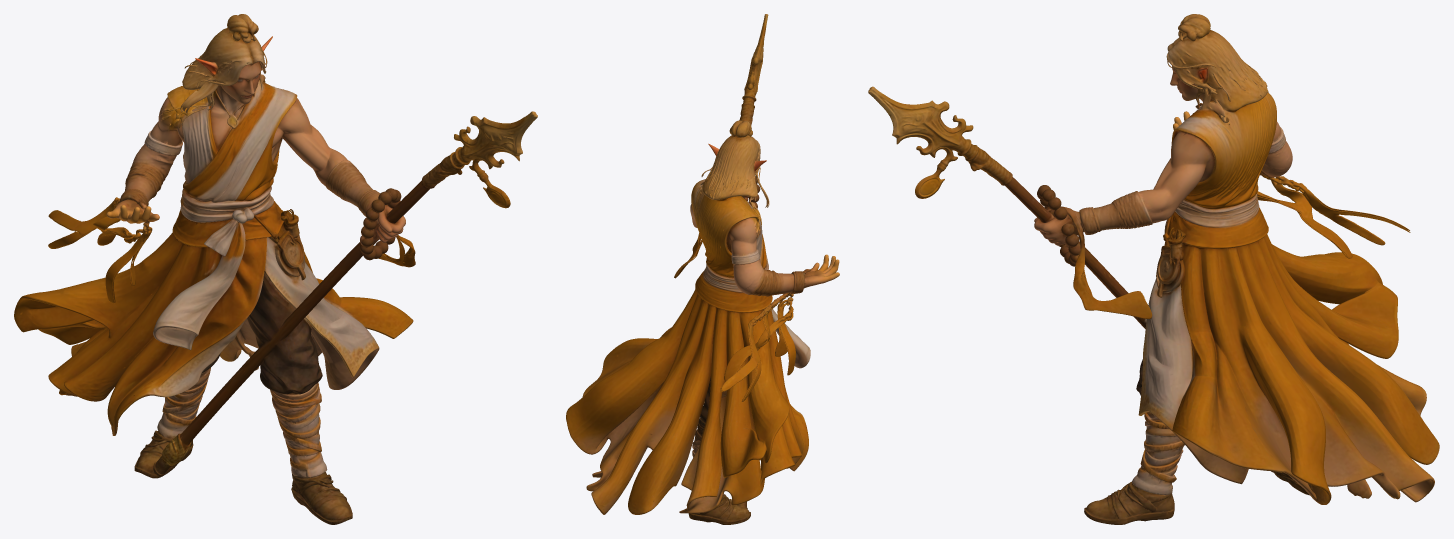
File: elf_monk_full_male_01.glb
3 renders of one model, left to right at view 1: azimuth 30°, elevation 25°; view 2: azimuth 150°, elevation 25°; view 3: azimuth 270°, elevation 25°, orthographic. The views are drawn at different scales.
Visible parts, largest first — view 1: material; view 2: material; view 3: material.
Part boxes in pixels (bbox=[...]): material: bbox=[14, 14, 537, 524]; material: bbox=[566, 14, 839, 524]; material: bbox=[868, 14, 1439, 524].
Size of the model in its own units: 0.5312 by 0.7886 by 0.8523.
Materials: 1 (1 with a texture image).
